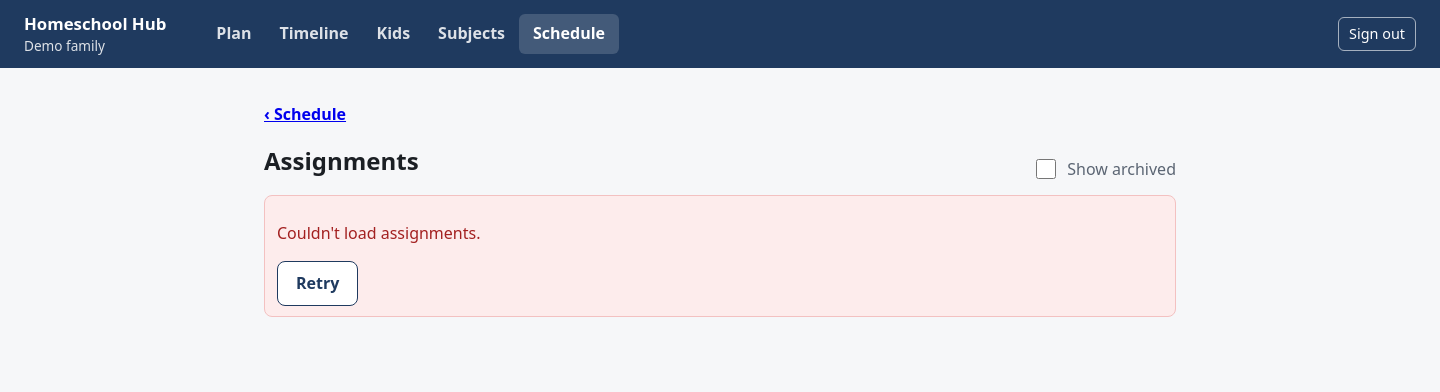
it: Assignments screen › load error → Retry
The width and height of the screenshot is (1440, 392).
Expected: the text "Couldn't load assignments." is shown, [277,222,480,244]
Click the button "Retry" at x=318, y=284, box [277,261,358,306]
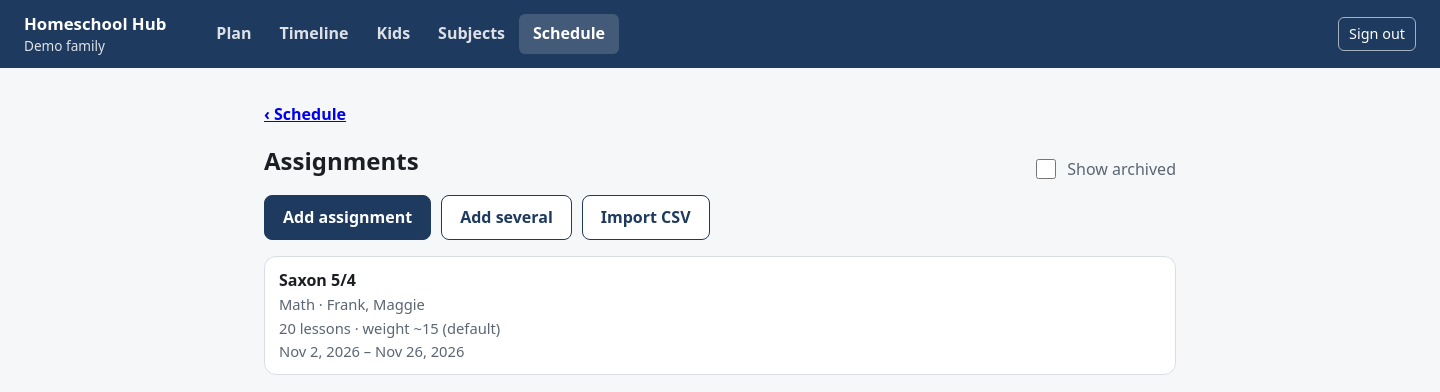
Now the list named "Assignments" is shown, box [264,256,1176,375]
